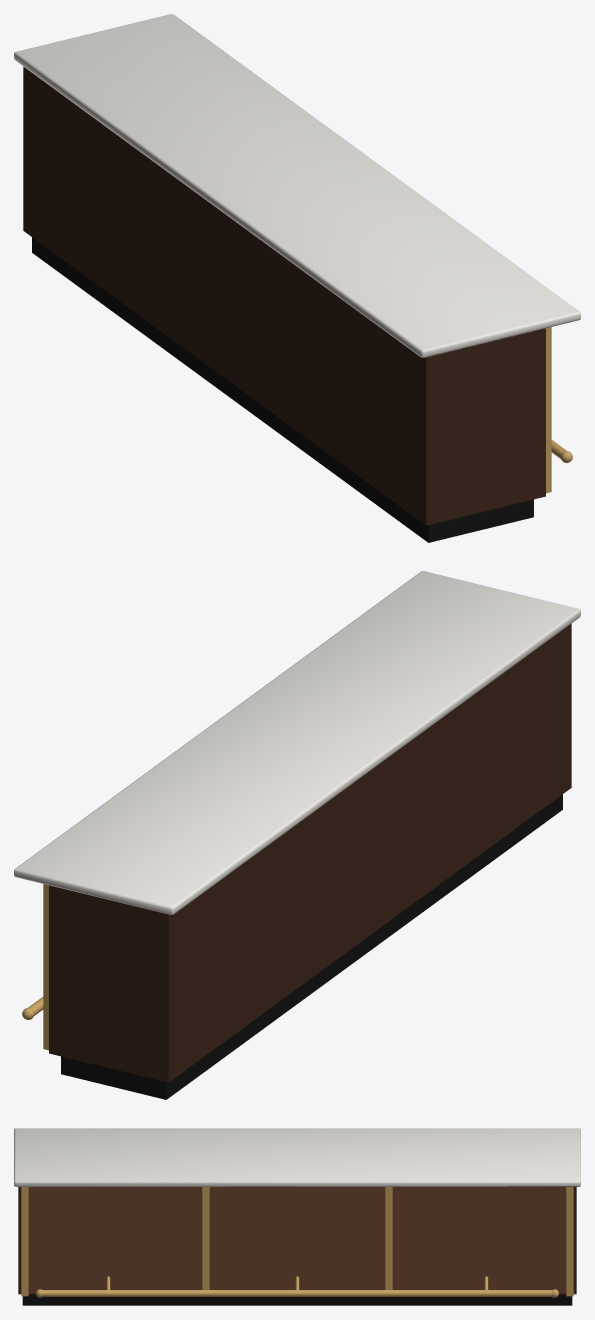
The model's file is bar_walnut.glb.
3 renders of one model, top to bottom at view 1: azimuth 30°, elevation 25°; view 2: azimuth 150°, elevation 25°; view 3: azimuth 270°, elevation 25°, orthographic. The views are drawn at different scales.
Parts seen in each view (by area): view 1: Core_LOD0, Top_LOD0, Plinth_LOD0, Pilaster_LOD0; view 2: Core_LOD0, Top_LOD0, Plinth_LOD0, Pilaster_LOD0.003; view 3: Front_LOD0, Top_LOD0, Plinth_LOD0, FootRail_LOD0, Core_LOD0, Pilaster_LOD0, Pilaster_LOD0.003, Pilaster_LOD0.001, Pilaster_LOD0.002.
Part boxes in pixels (bbox=[...]): Core_LOD0: bbox=[23, 66, 545, 525]; Top_LOD0: bbox=[14, 14, 580, 357]; Plinth_LOD0: bbox=[32, 237, 533, 542]; Pilaster_LOD0: bbox=[546, 327, 551, 493]; Core_LOD0: bbox=[49, 623, 571, 1082]; Top_LOD0: bbox=[14, 571, 580, 914]; Plinth_LOD0: bbox=[61, 794, 562, 1099]; Pilaster_LOD0.003: bbox=[43, 884, 48, 1050]; Front_LOD0: bbox=[28, 1187, 566, 1293]; Top_LOD0: bbox=[14, 1128, 580, 1186]; Plinth_LOD0: bbox=[22, 1294, 572, 1305]; FootRail_LOD0: bbox=[42, 1290, 552, 1296]; Core_LOD0: bbox=[18, 1187, 576, 1294]; Pilaster_LOD0: bbox=[21, 1187, 28, 1296]; Pilaster_LOD0.003: bbox=[566, 1187, 573, 1296]; Pilaster_LOD0.001: bbox=[202, 1187, 209, 1289]; Pilaster_LOD0.002: bbox=[385, 1187, 392, 1289].
Bounding box in the file's own units: 0.9285 × 1.05 × 3.9.
